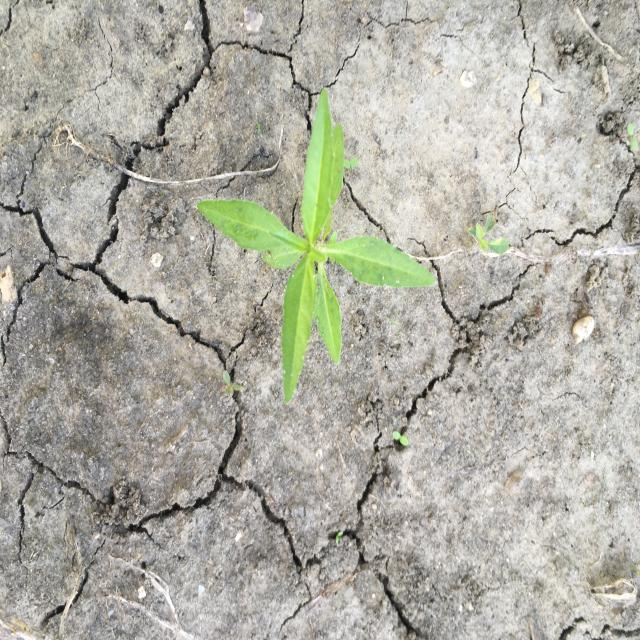Eclipta: (196, 86, 436, 406)
